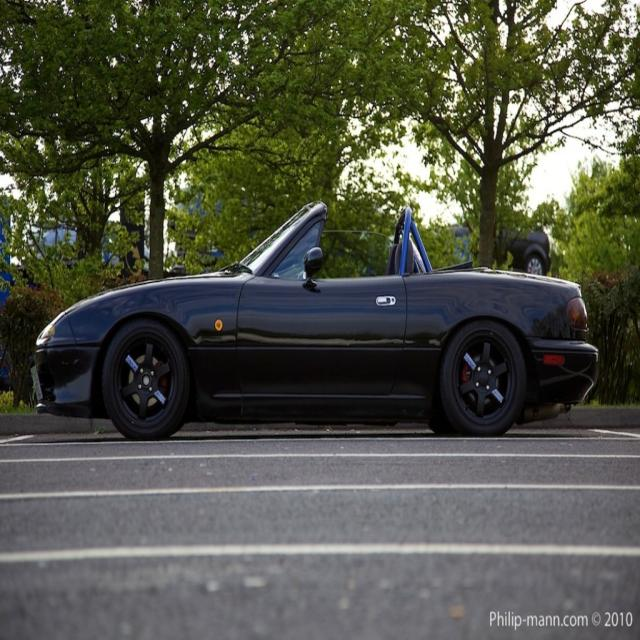car: (34, 207, 600, 441)
